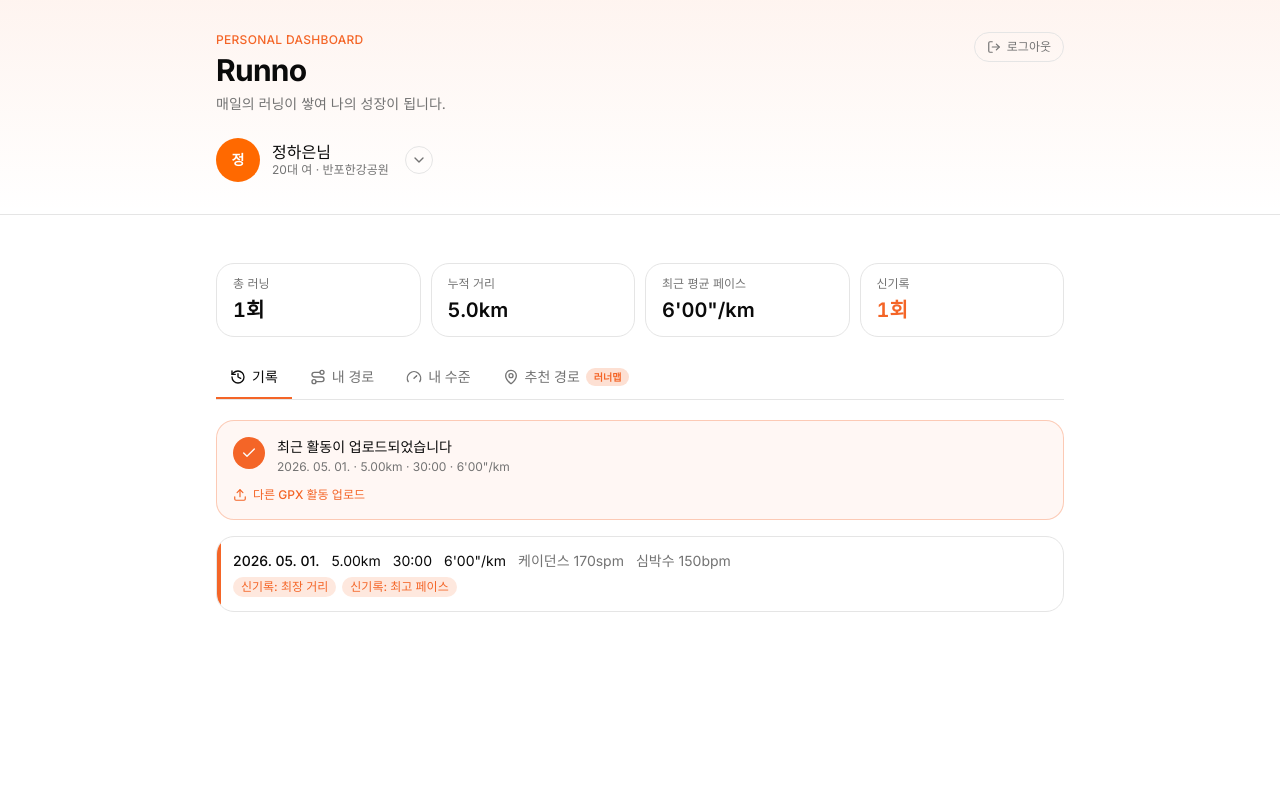
Scenario: 다른 프로필로 전환하면 화면이 그 프로필 데이터로 갱신된다
The width and height of the screenshot is (1280, 800).
Expected: the text "5.00km" is shown, [332,551,381,571]
Click the button named "다른 데모 프로필로 전환". click: (419, 160)
box: [405,146,433,174]
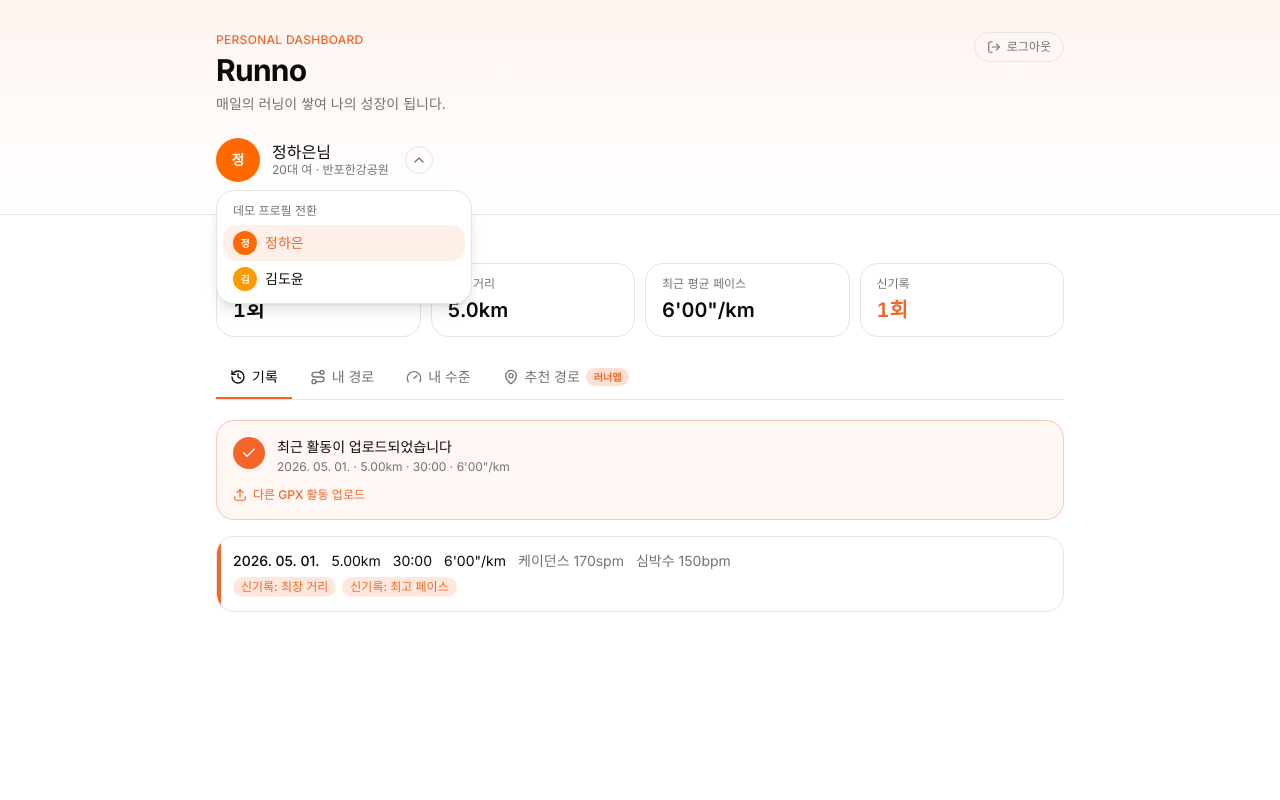
Click the button "김 김도윤". click: (344, 279)
box: [223,261,465,297]
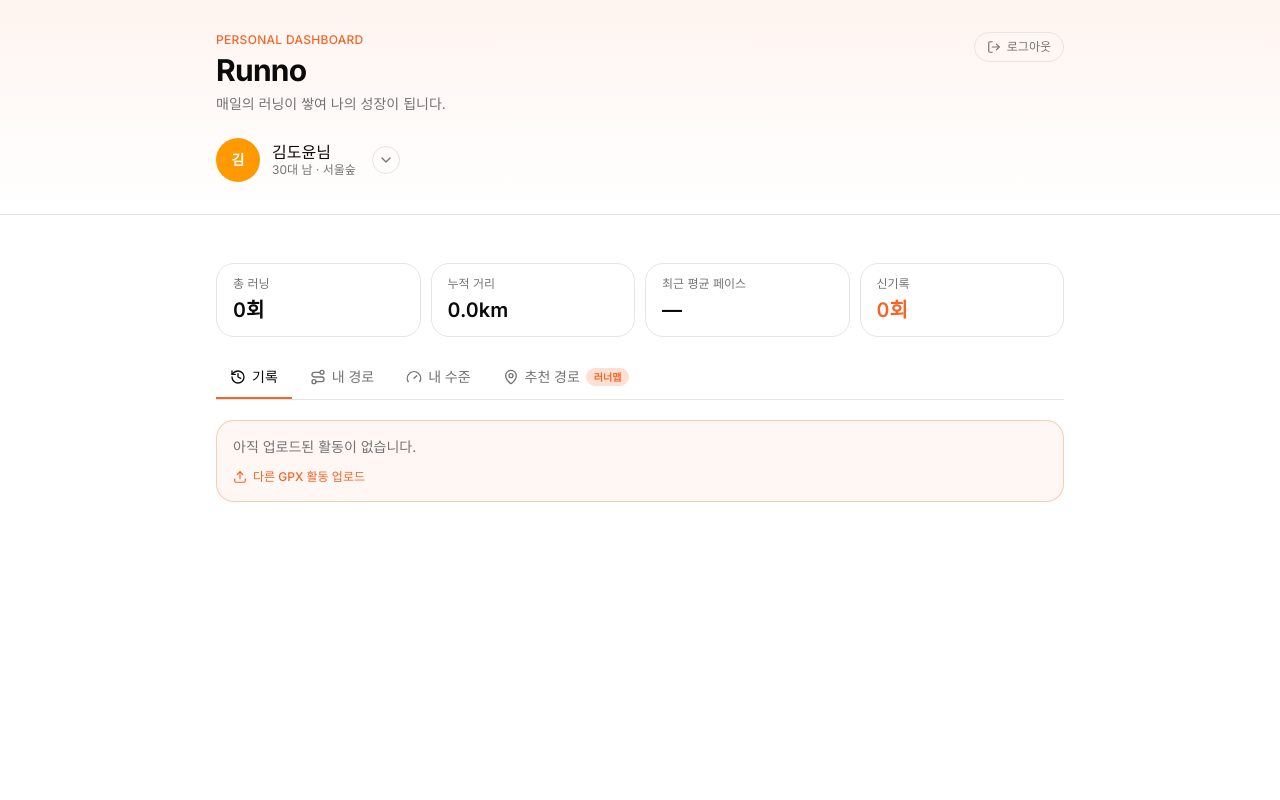
Expected: the text "아직 업로드된 활동이 없습니다." is shown, [233,438,416,455]
Expected: the text "5.00km" is gone
